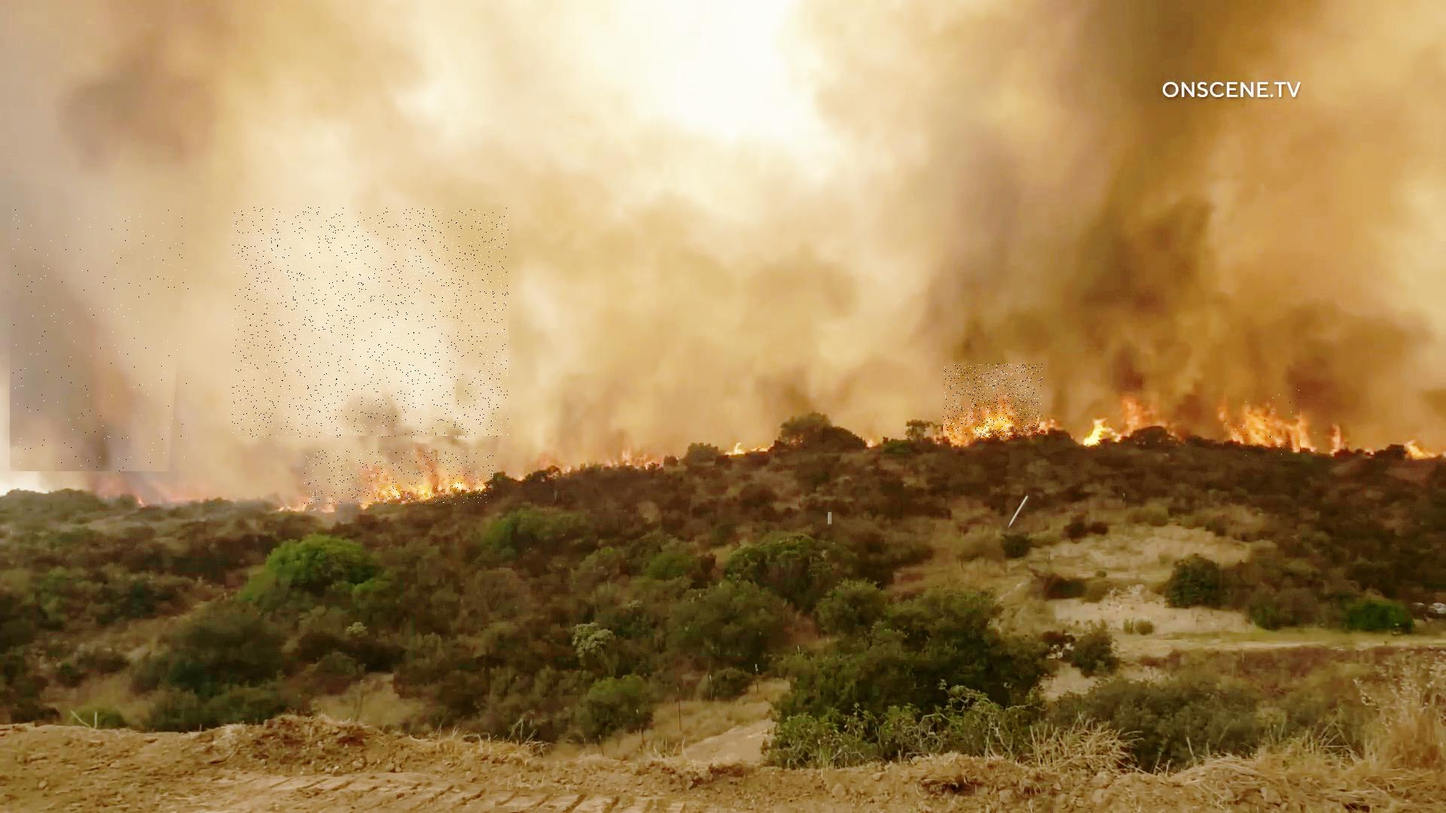fire: (301, 450, 493, 505), (944, 364, 1043, 437), (1224, 388, 1302, 464)
smoke: (232, 208, 508, 438), (10, 209, 189, 471)
